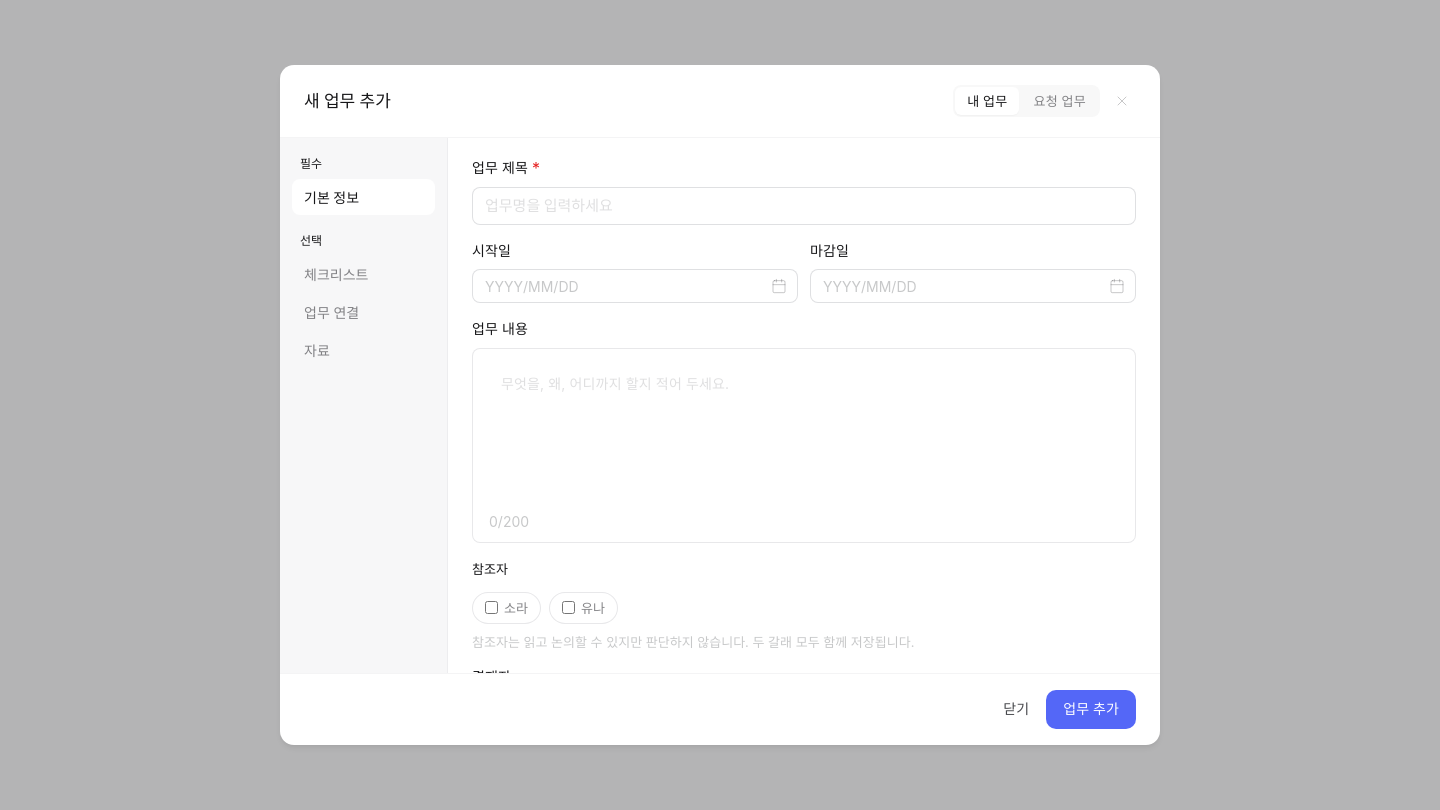
Scenario: 업무 생성 모달의 골격 › 판을 옮겨도 적어 둔 값이 그대로 남는다
Type "옮겨도 남는 제목" into the field labelled "업무 제목" at (804,206), box [472, 186, 1136, 224]
Click the tab "체크리스트" at (364,274), box [292, 256, 435, 292]
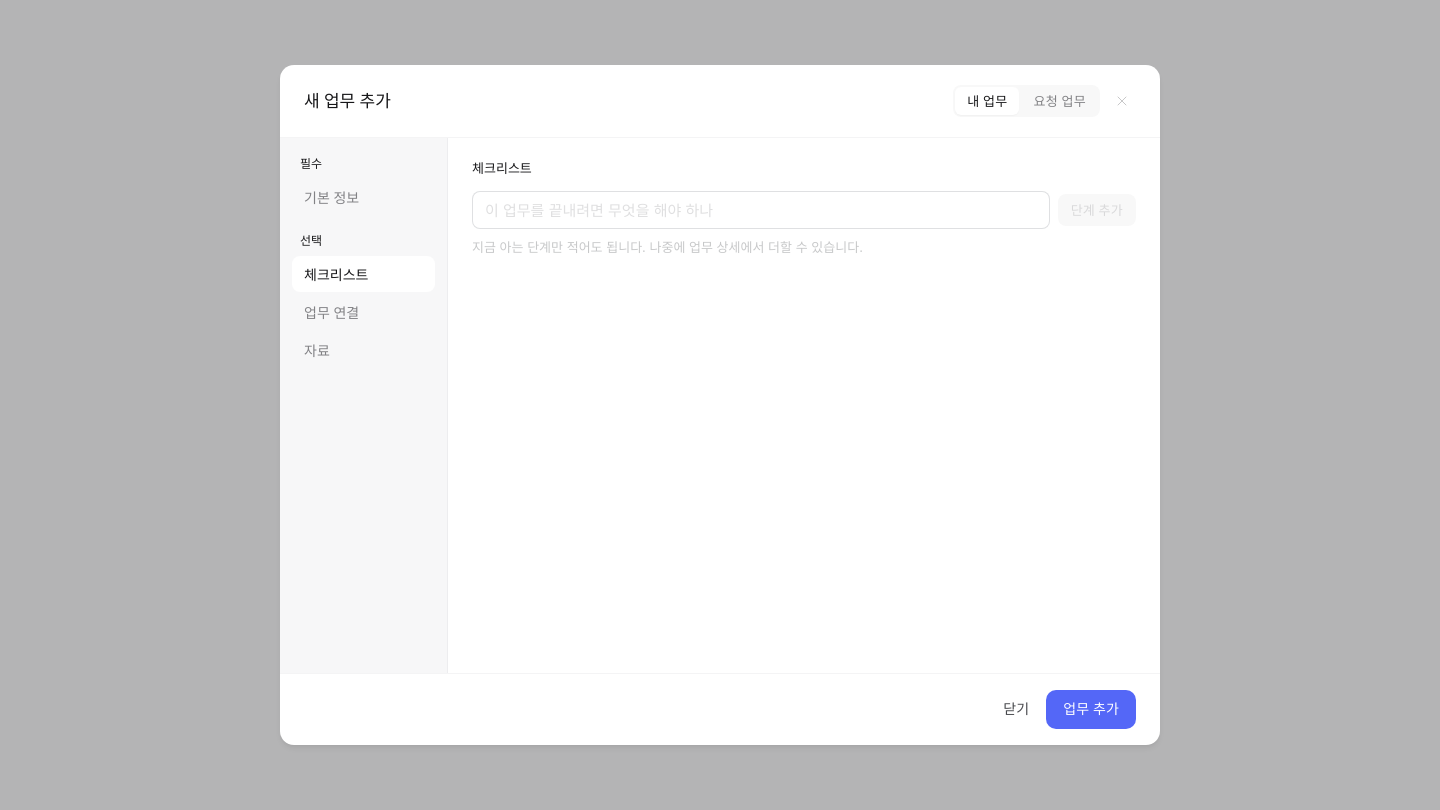
Type "자료 모으기" into the field named "추가할 단계" at (761,210), box [472, 191, 1050, 229]
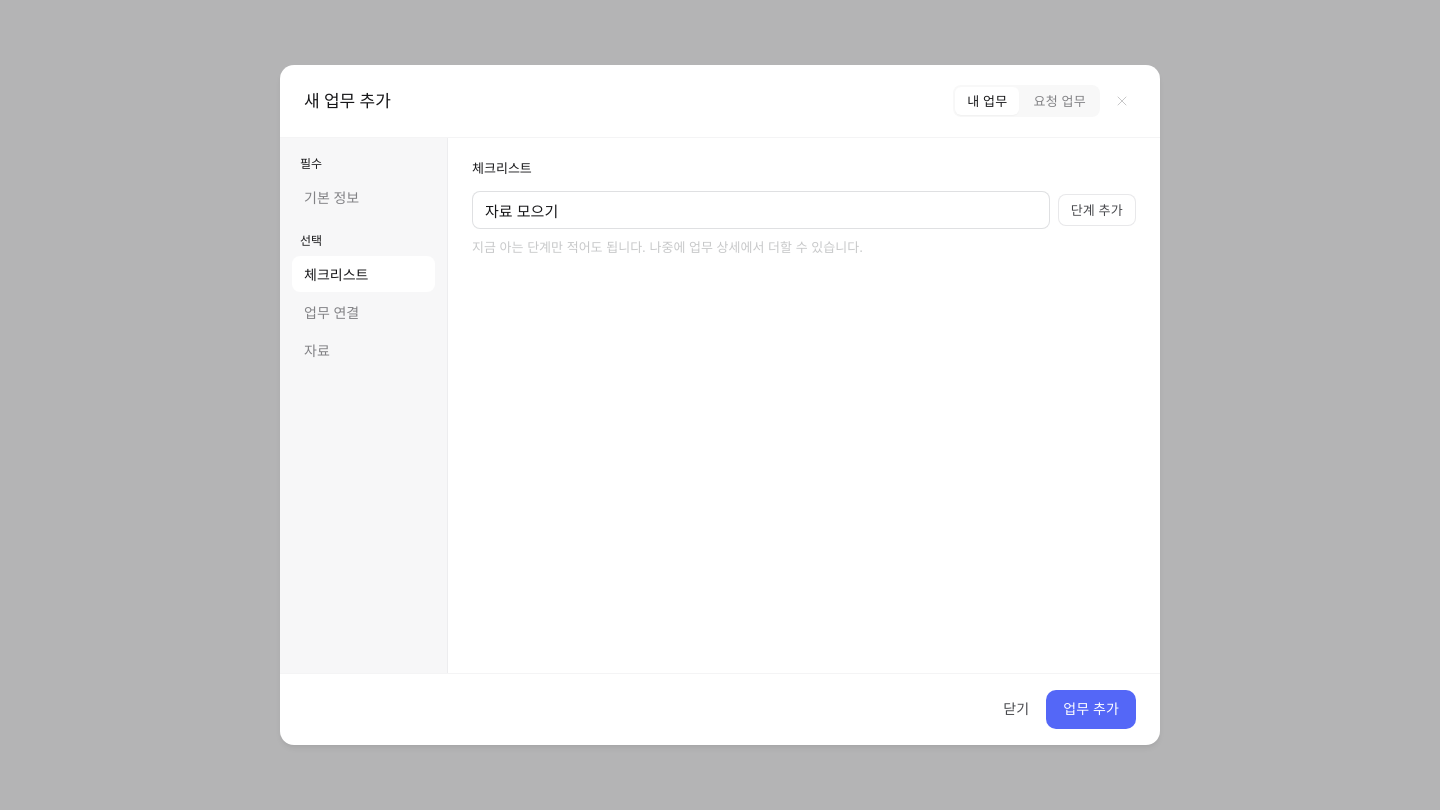
Click the button "단계 추가" at (1097,210), box [1058, 194, 1136, 226]
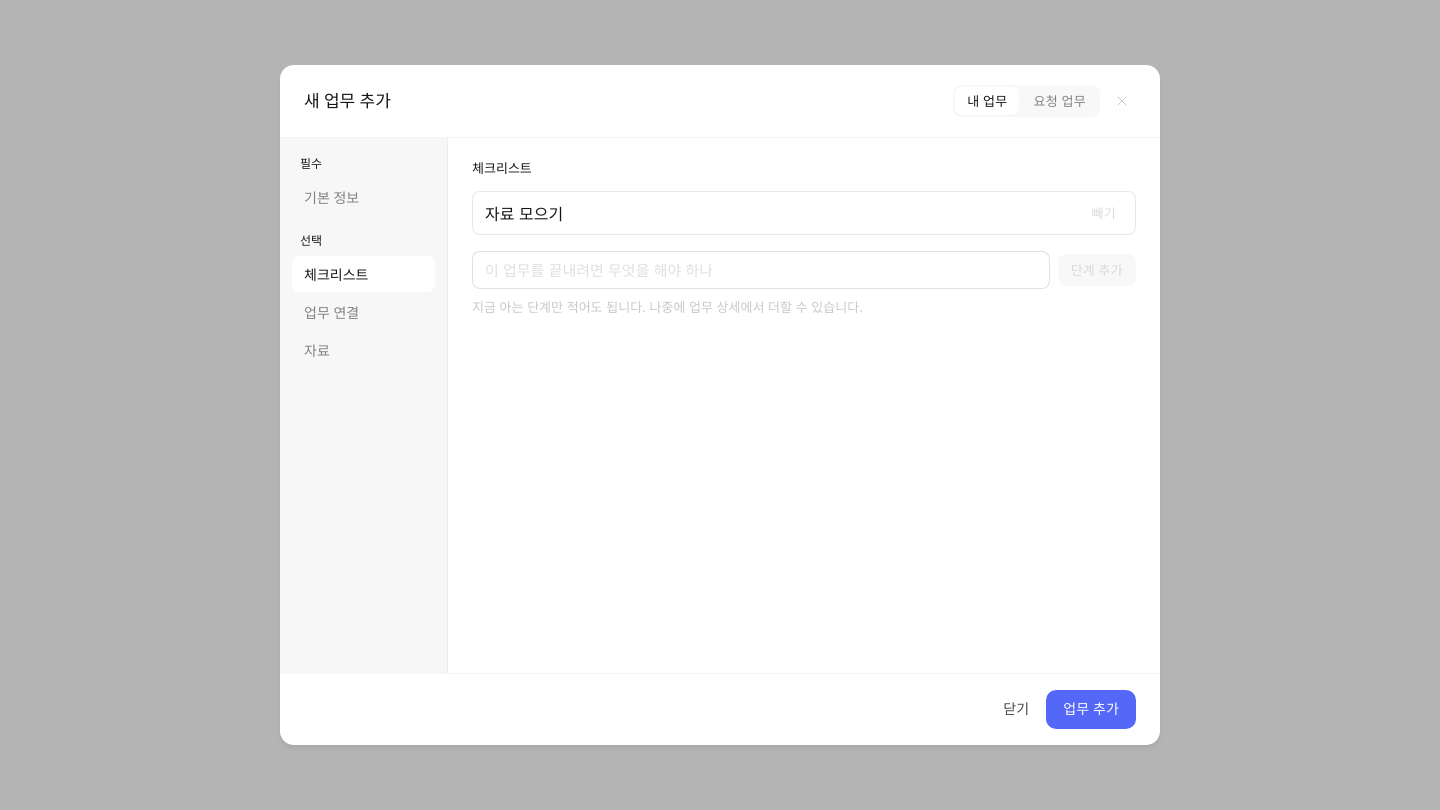
Click the tab "업무 연결" at (364,312), box [292, 294, 435, 330]
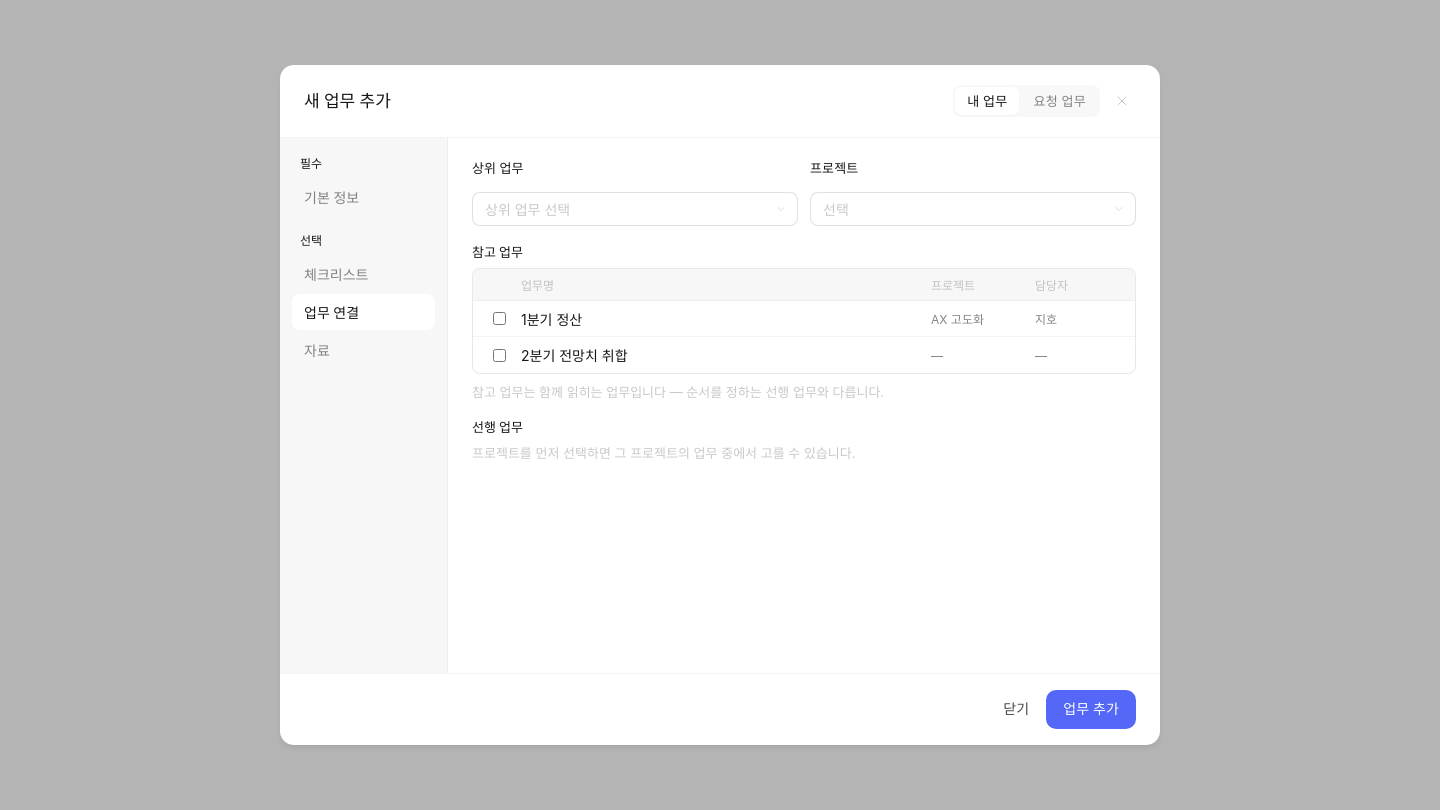
Click the tab "기본 정보" at (364,197), box [292, 179, 435, 215]
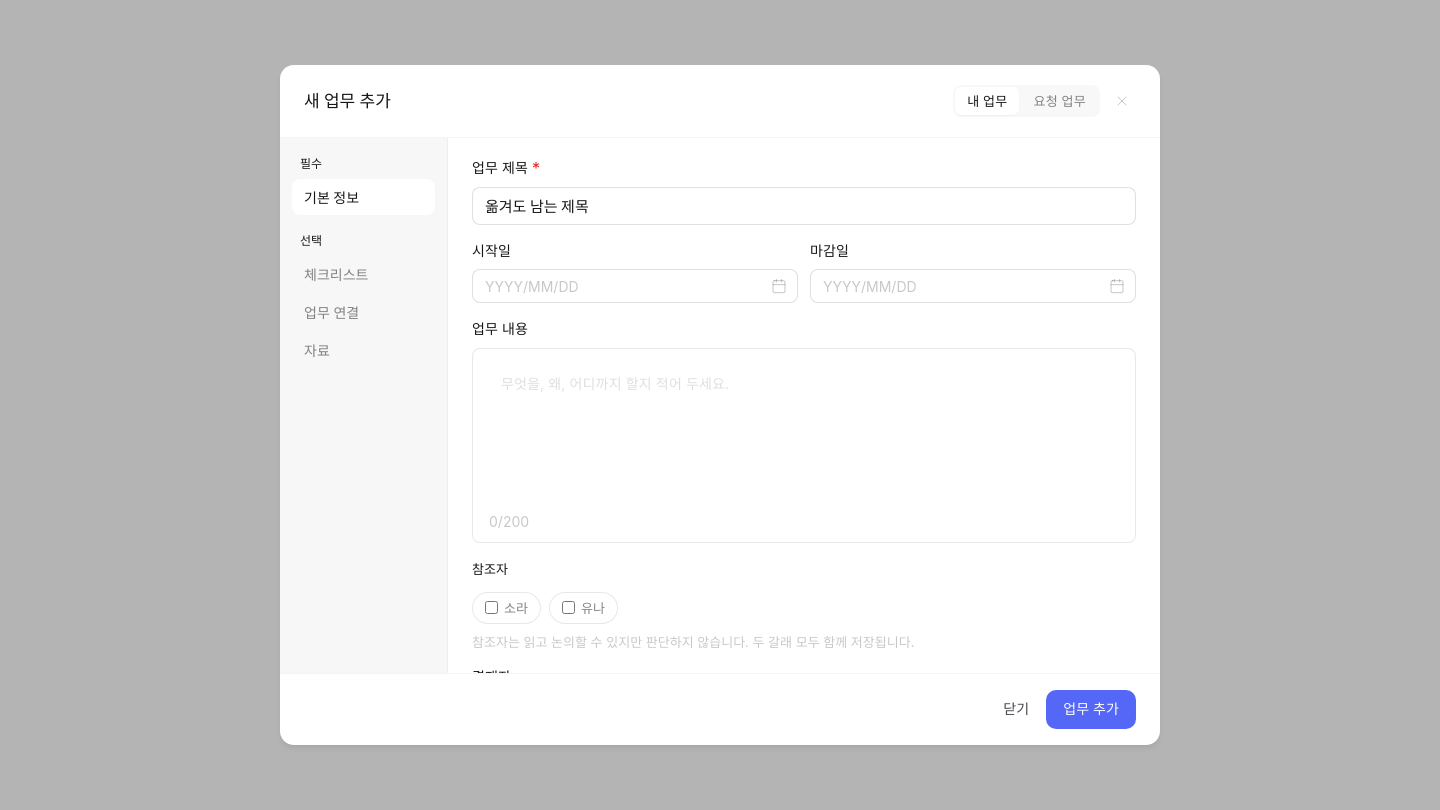
Click the tab "체크리스트" at (364,274), box [292, 256, 435, 292]
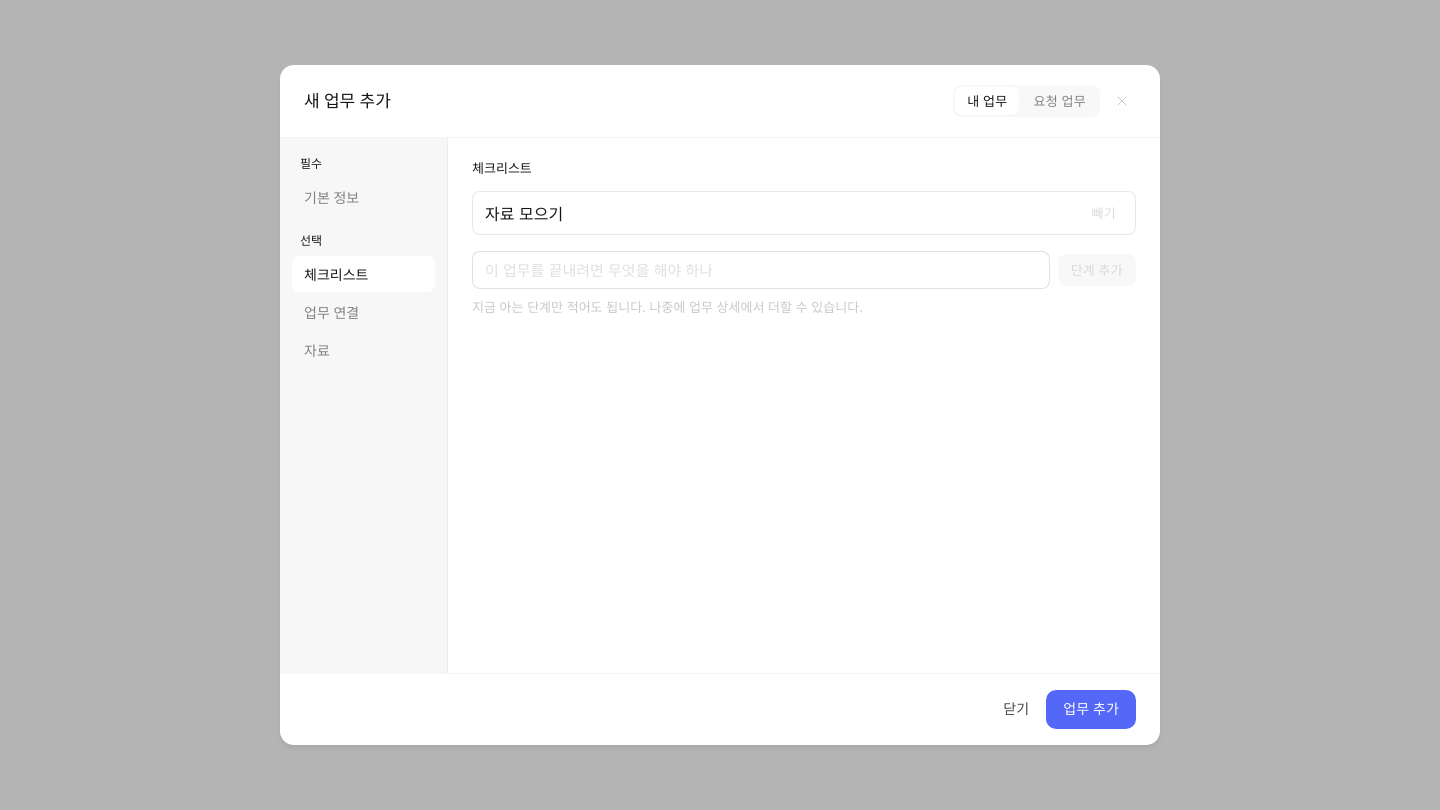
Expected: the text "자료 모으기" is shown, [485, 204, 563, 224]
